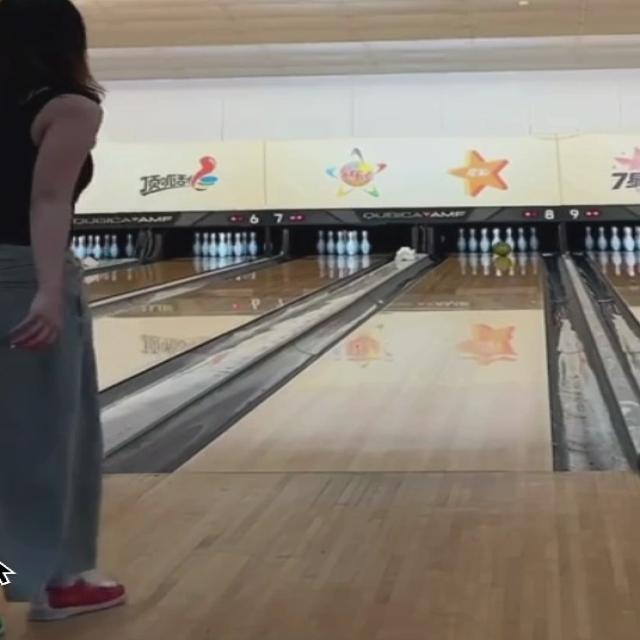alley: (181, 254, 548, 471)
balls: (492, 242, 511, 257)
bottle: (459, 226, 537, 253)
